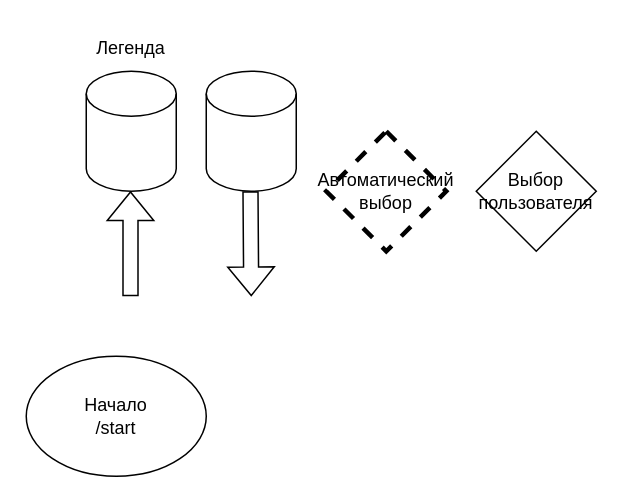
This 623x503 diagram has some shape labels left out. The box of each missing label's shape, as (x1, y1, x2, y2) in pixels:
Запись в БД данных: (85, 70, 176, 191)
Запрос данных из БД: (205, 70, 296, 191)
